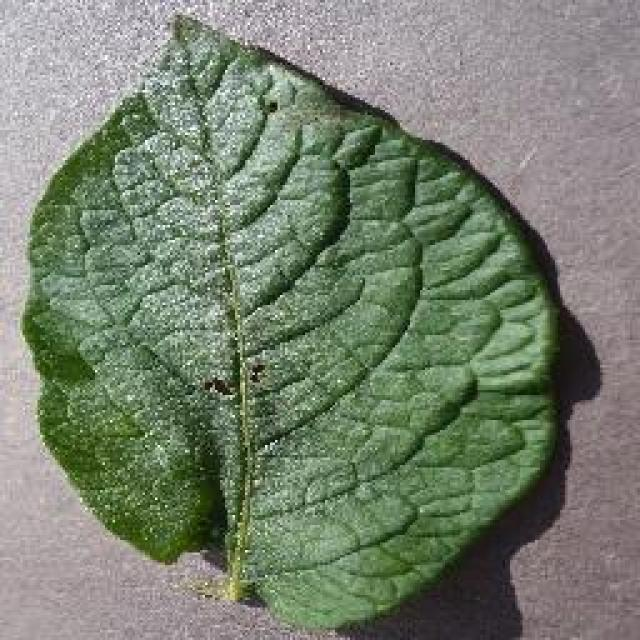Potato: (18, 10, 562, 632)
